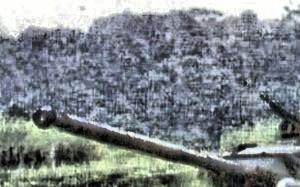tanks: (34, 97, 300, 187)
